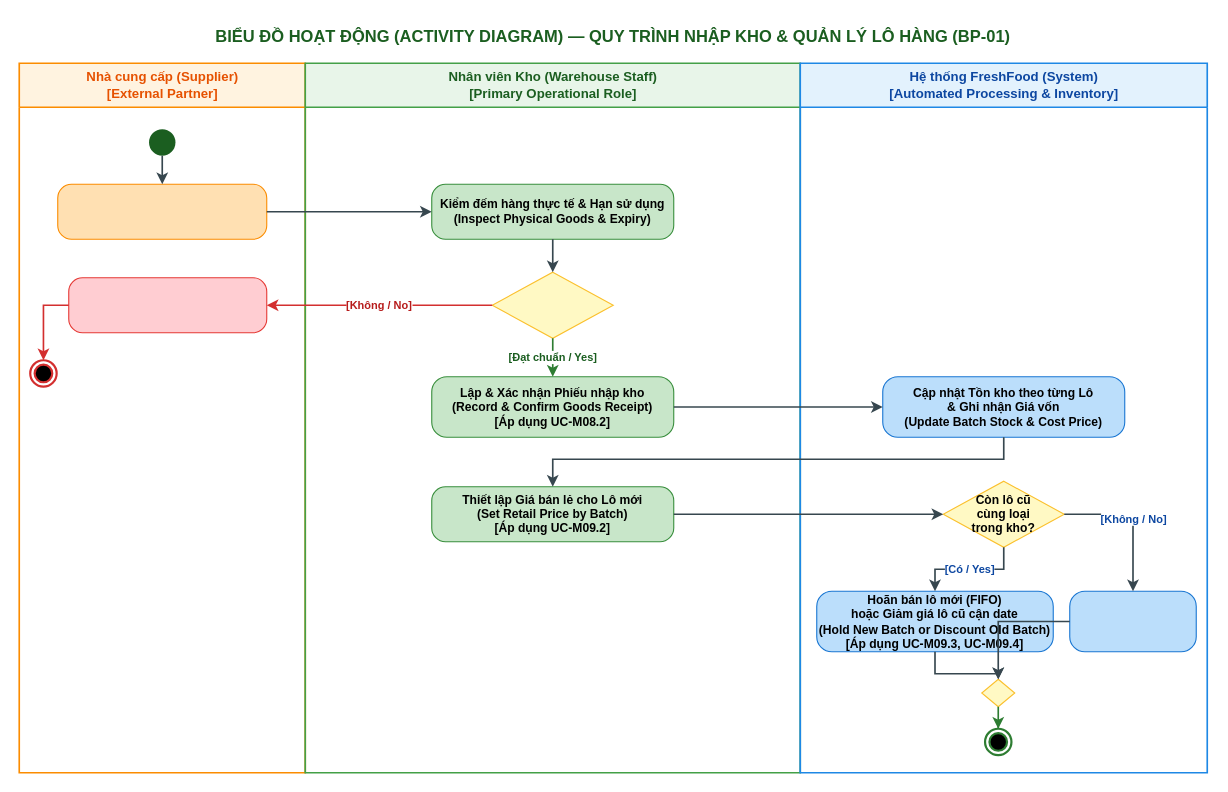
Some shapes in this 1228 by 792 pixel diagram are drawn without their labels. The shapes that lost their labels are listed below. From the top down, each one's centre as x and y in pixels, then its label:
pixel 162 211: Giao hàng & Chứng từ hóa đơn (Deliver Goods & Invoice)
pixel 167 305: Lập biên bản từ chối & Trả lại hàng cho NCC (Reject & Issue Return Note)
pixel 552 304: Hàng đạt chuẩn?
pixel 1132 621: Kích hoạt Mở bán ngay lô hàng mới trên Website (Activate New Batch for Sale)
